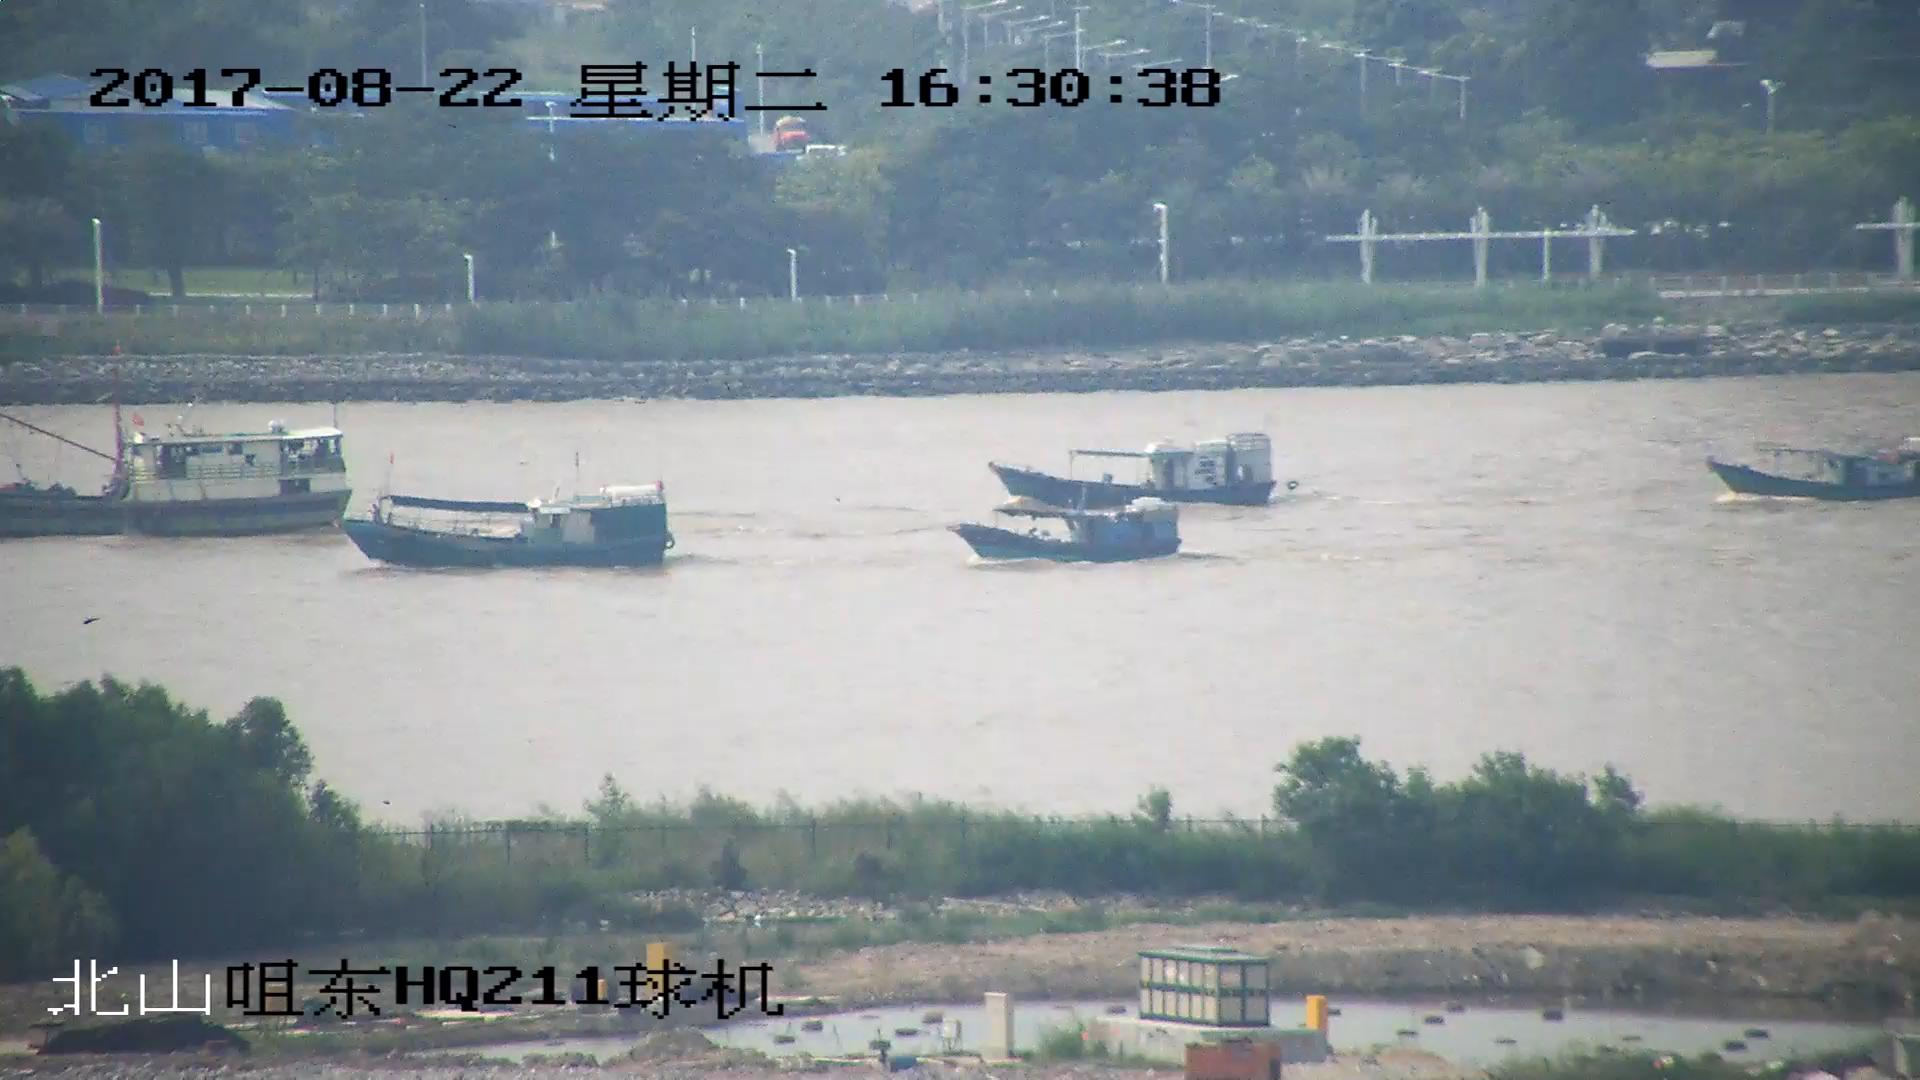fishing boat: (1, 402, 353, 537), (348, 461, 674, 573), (995, 424, 1274, 507), (951, 497, 1180, 565), (1716, 437, 1920, 503)
